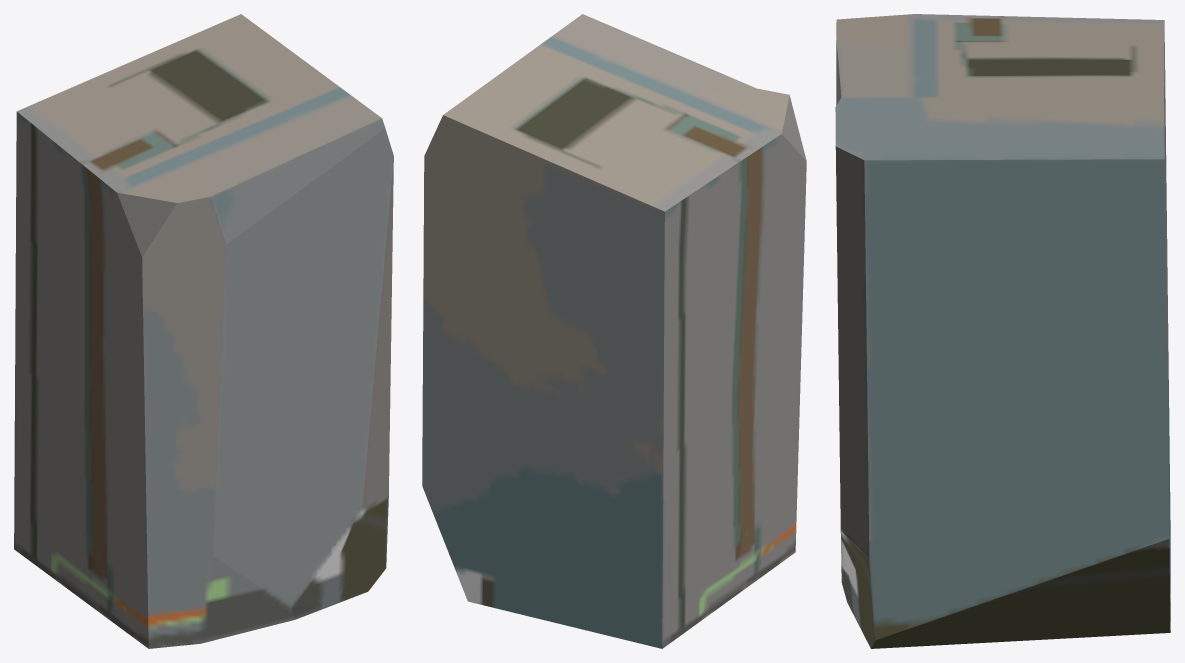
Rendered from ROCK05.fbx.
3 views of the same model, side by side, from view 1: azimuth 30°, elevation 25°; view 2: azimuth 150°, elevation 25°; view 3: azimuth 270°, elevation 25° (orthographic). The views are drawn at different scales.
Visible parts, largest first — view 1: ROCK05; view 2: ROCK05; view 3: ROCK05.
Part boxes in pixels (x1,y1,x2,y2): ROCK05: (14,14,393,648); ROCK05: (422,14,806,648); ROCK05: (835,14,1170,648).
Size of the model in its own units: 101 by 186 by 102.
Materials: 1 (1 with a texture image).
